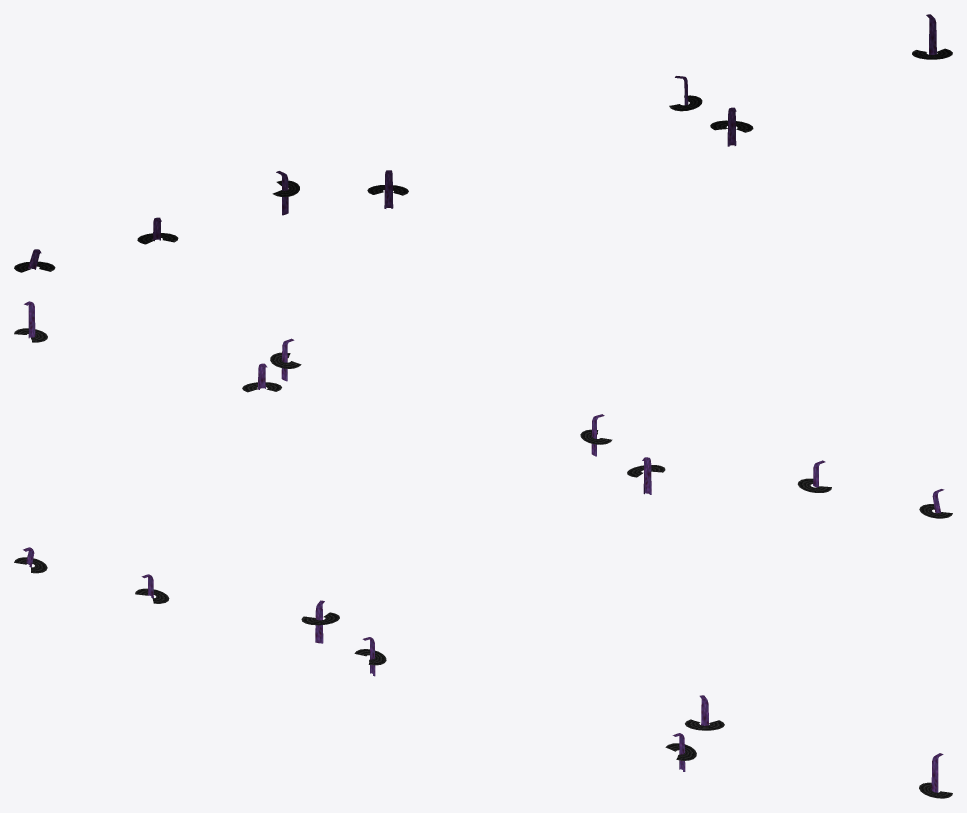
The model's file is stg410_MotWater_11.obj.
3 renders of one model, top to bottom at view 1: azimuth 30°, elevation 25°; view 2: azimuth 150°, elevation 25°; view 3: azimuth 330°, elevation 25°, orthographic. The views are drawn at different scales.
Size of the model in its own units: 7714 by 451 by 771.
2 materials, 2 textured.
